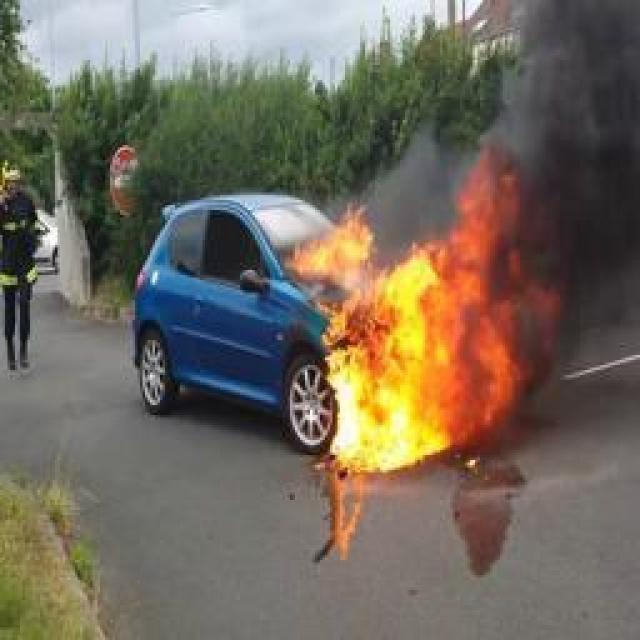Fire: (290, 145, 558, 475)
